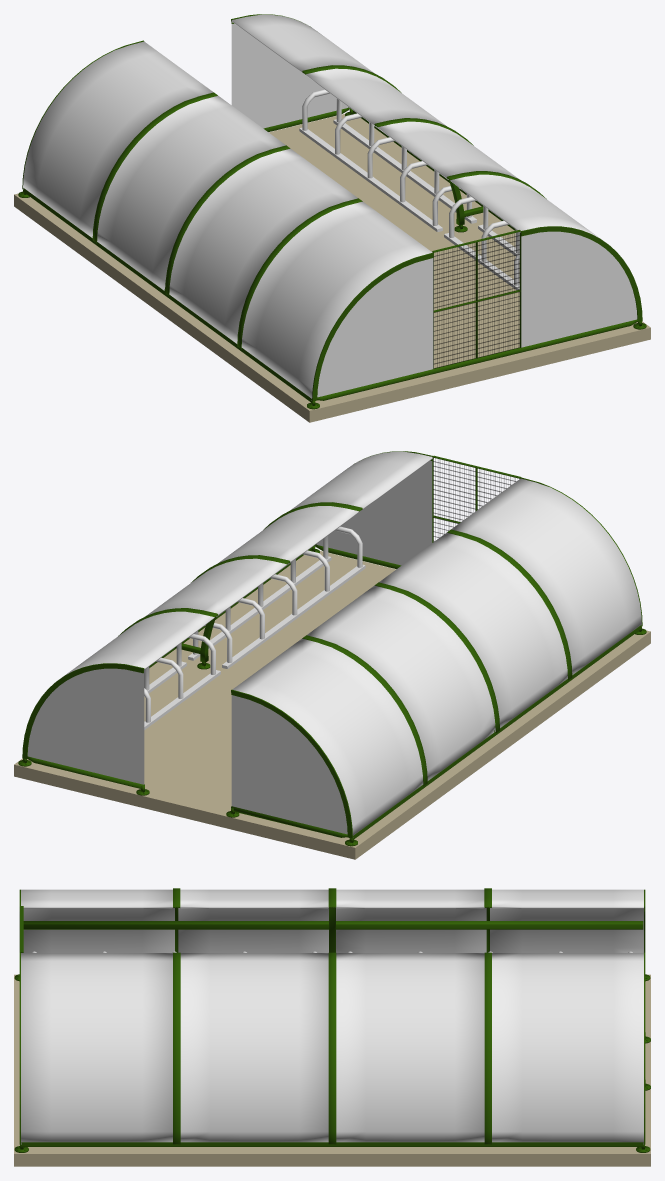
Rendered from bike_shed.glb.
3 views of the same model, one above another, from view 1: azimuth 30°, elevation 25°; view 2: azimuth 150°, elevation 25°; view 3: azimuth 270°, elevation 25° (orthographic). The views are drawn at different scales.
Visible parts, largest first — view 1: SideWalls, Floor, FrontBackWalls, BackDoorGrating, Bars, BarsBase, MetalEdges, BackTrimming, SideTrimmings, BackDoor; view 2: SideWalls, Floor, FrontBackWalls, Bars, BarsBase, MetalEdges, BackDoorGrating, SideTrimmings, FontTrimming, BackDoor; view 3: SideWalls, Floor, LockerBar, SideTrimmings, MetalEdges.
Part boxes in pixels (x1,y1,x2,y2): SideWalls: [23, 14, 601, 400]; Floor: [14, 114, 650, 422]; FrontBackWalls: [231, 22, 637, 397]; BackDoorGrating: [433, 232, 520, 368]; Bars: [302, 89, 519, 285]; BarsBase: [299, 119, 620, 399]; MetalEdges: [22, 14, 642, 401]; BackTrimming: [317, 319, 637, 400]; SideTrimmings: [23, 110, 515, 402]; BackDoor: [432, 230, 521, 368]; SideWalls: [63, 451, 641, 837]; Floor: [14, 551, 650, 859]; FrontBackWalls: [27, 460, 432, 834]; Bars: [144, 526, 362, 722]; BarsBase: [44, 556, 365, 836]; MetalEdges: [22, 451, 642, 838]; BackDoorGrating: [433, 458, 516, 541]; SideTrimmings: [149, 547, 641, 839]; FontTrimming: [27, 756, 347, 837]; BackDoor: [432, 455, 521, 542]; SideWalls: [21, 888, 643, 1144]; Floor: [14, 974, 650, 1166]; LockerBar: [23, 921, 643, 929]; SideTrimmings: [21, 1142, 643, 1146]; MetalEdges: [19, 889, 645, 1144].
Size of the model in its own units: 6 by 2.31 by 9.
Materials: 5 (1 with a texture image).
